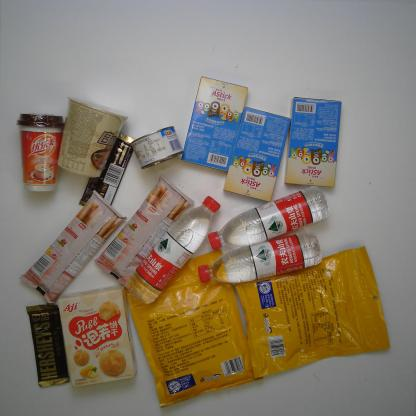Canned Food: (130, 123, 184, 172)
Chocolate: (77, 128, 136, 209), (22, 302, 72, 391)
Dessert: (17, 189, 128, 307), (91, 172, 195, 291), (56, 283, 139, 390), (221, 105, 292, 205), (181, 73, 250, 175), (283, 96, 343, 191)
Dried Fruit: (122, 246, 266, 411), (232, 244, 394, 380)
Drink: (126, 195, 222, 306), (207, 185, 330, 251), (197, 230, 323, 284)
Instant Drink: (14, 111, 66, 193)
Instant Noodles: (56, 95, 130, 179)
